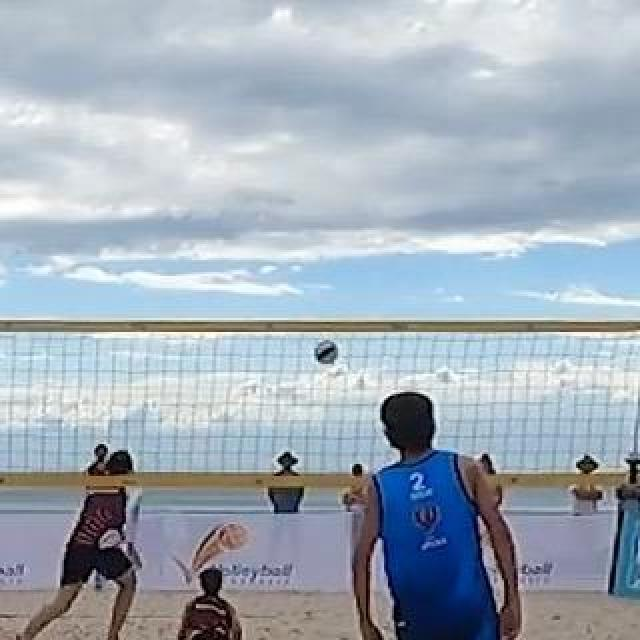volleyball: (314, 339, 338, 363)
